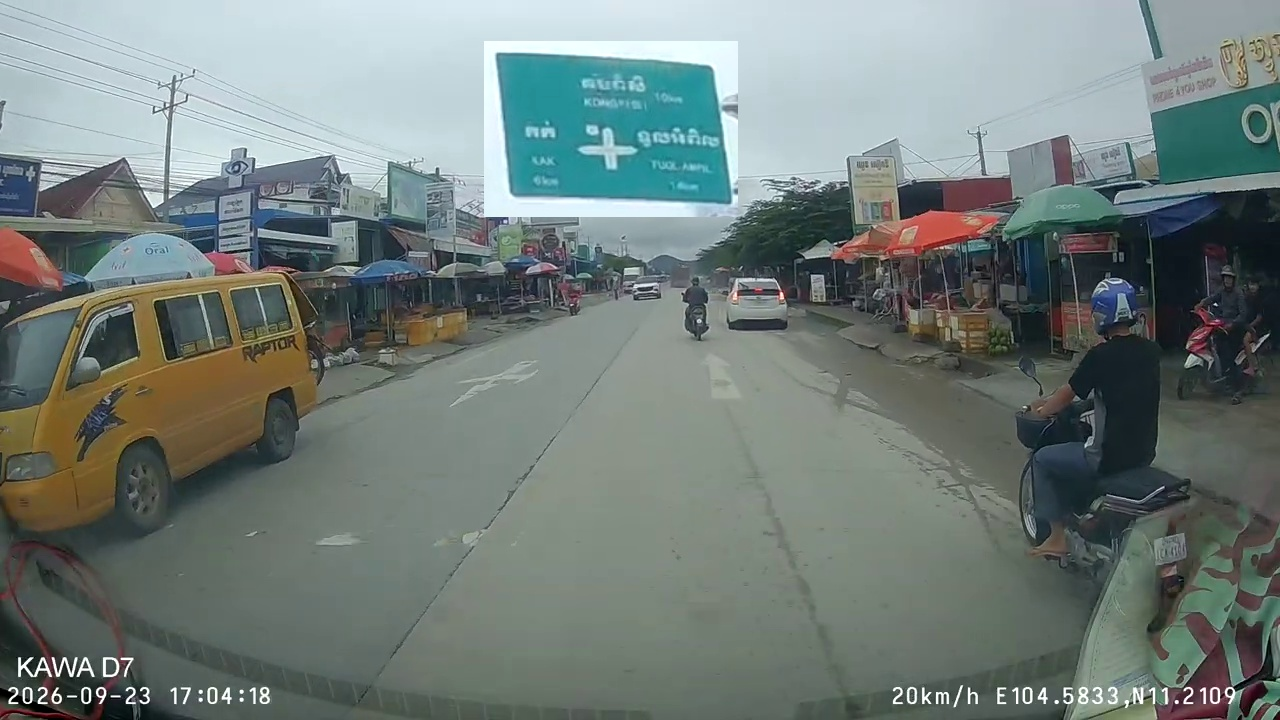direction_sign: (484, 41, 738, 217)
